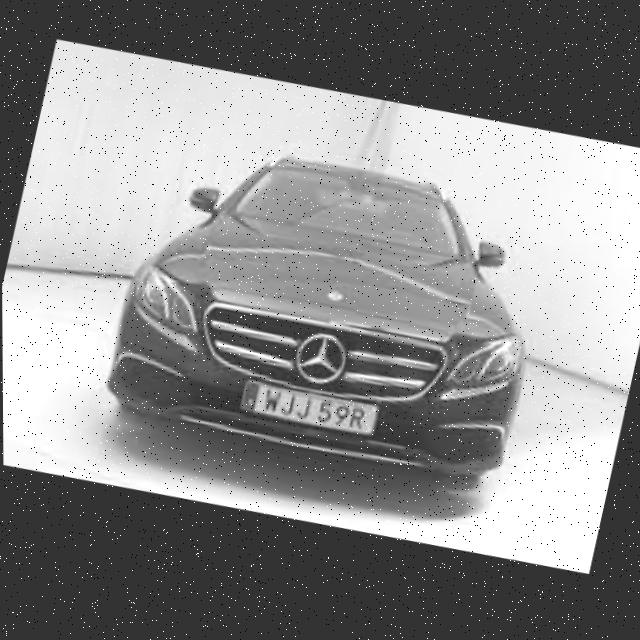license-plates: (240, 382, 379, 434)
